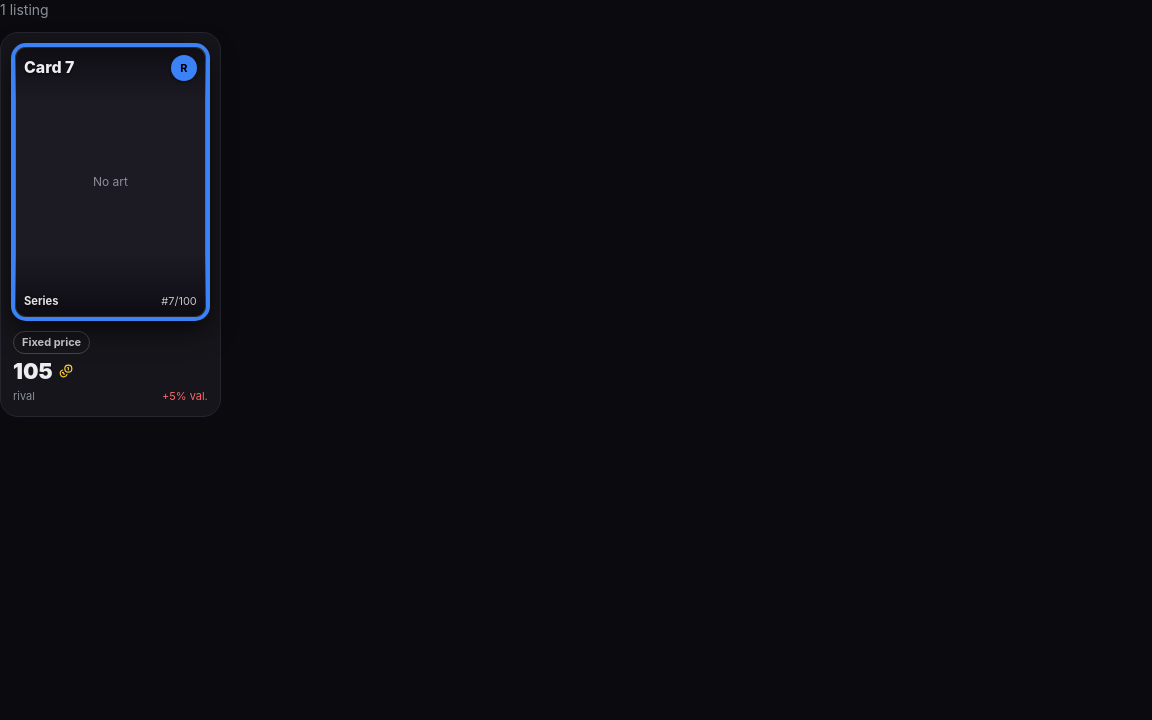
Scenario: BuyTab › confirms with the balance after and calls buy_listing once
Click the button with aria-label "buy": click(110, 225) [0, 32, 221, 417]
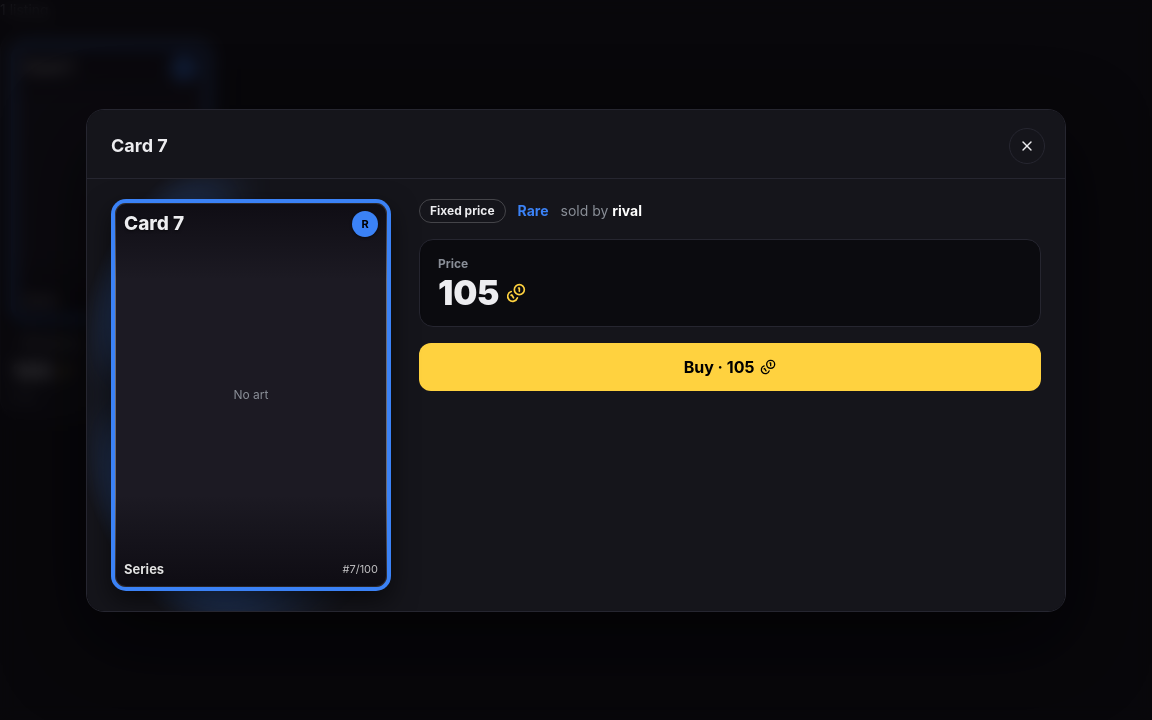
Click the button "Buy · 105": click(730, 366) [419, 342, 1041, 390]
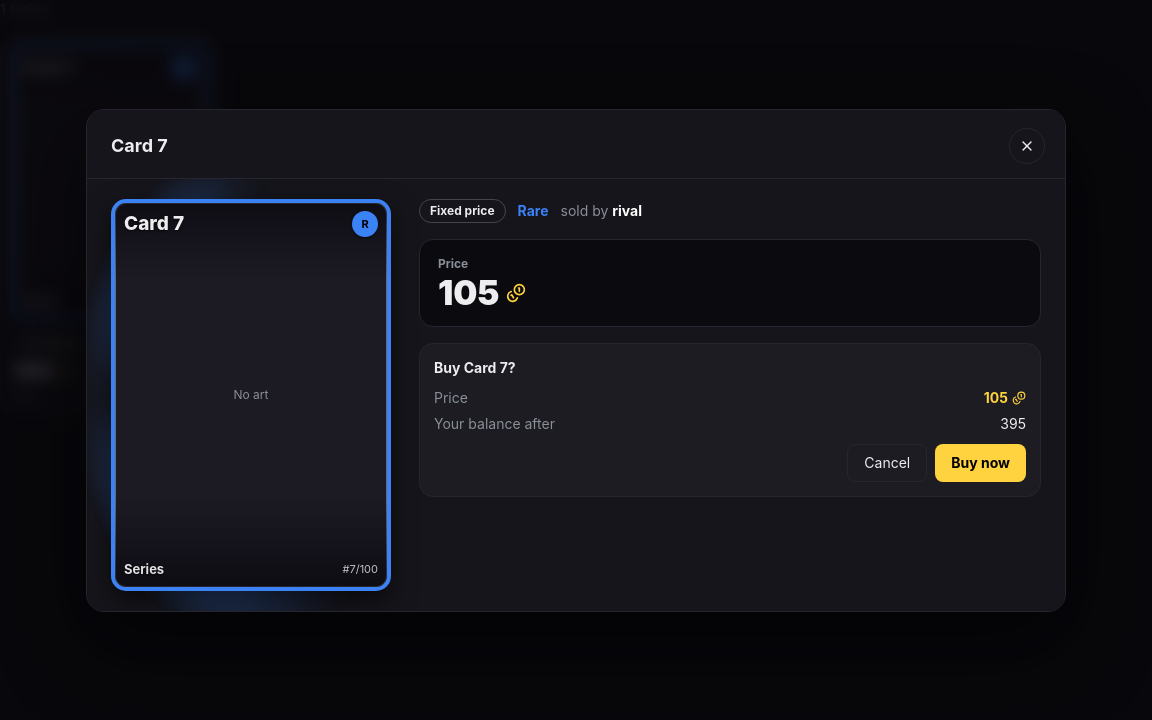
expect the dialog shows "105": met, box [438, 272, 500, 312]
expect the dialog shows "395": met, box [1000, 414, 1026, 432]
Click the button "Buy now": click(981, 462) [935, 444, 1026, 482]
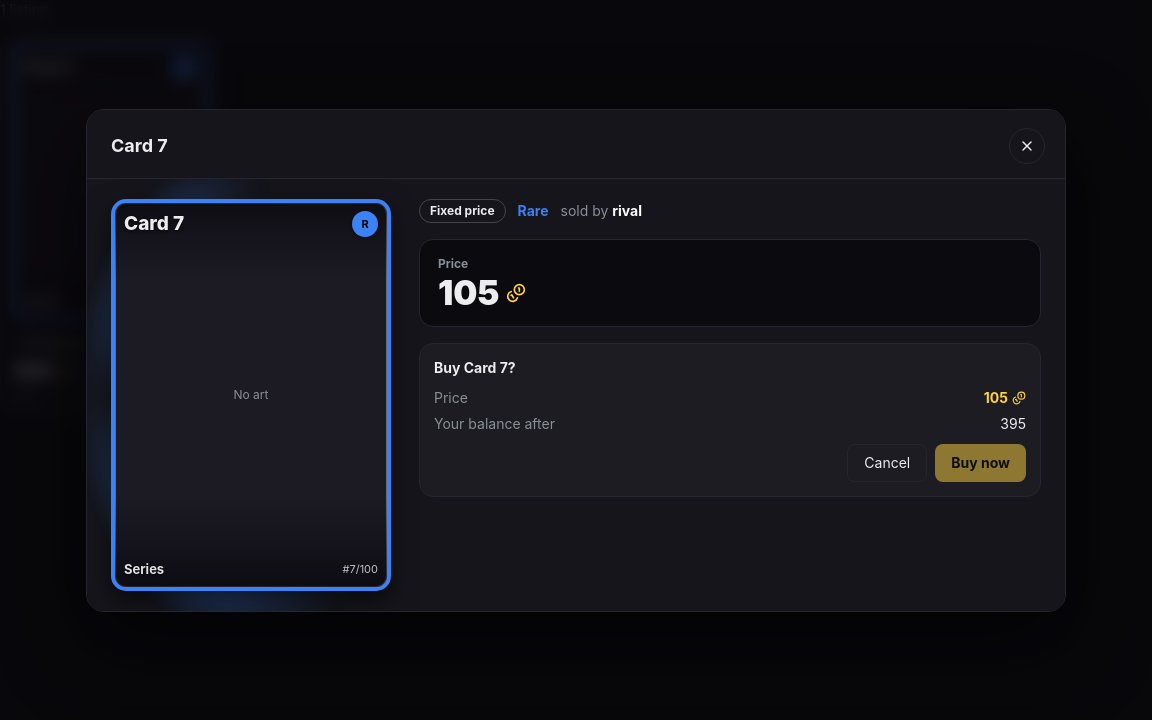
Click the button "Buy now": click(981, 462) [935, 444, 1026, 482]
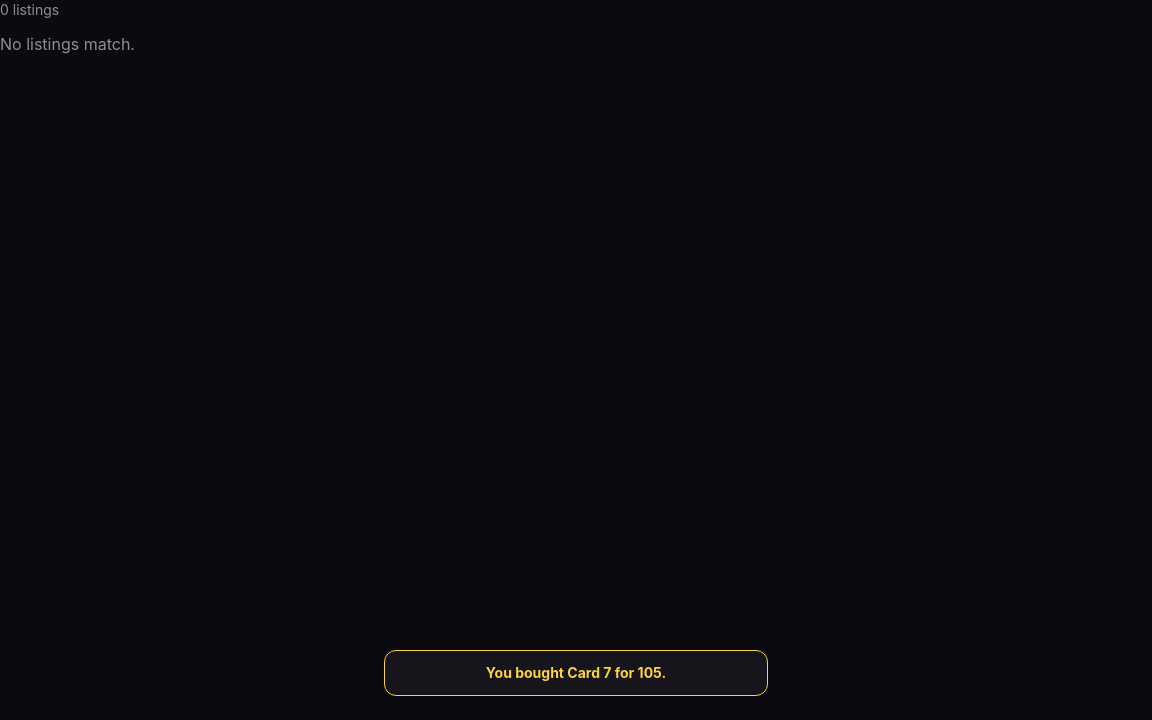
expect the message shows "Card 7": met, box [486, 664, 666, 681]
expect no list items are shown: met
